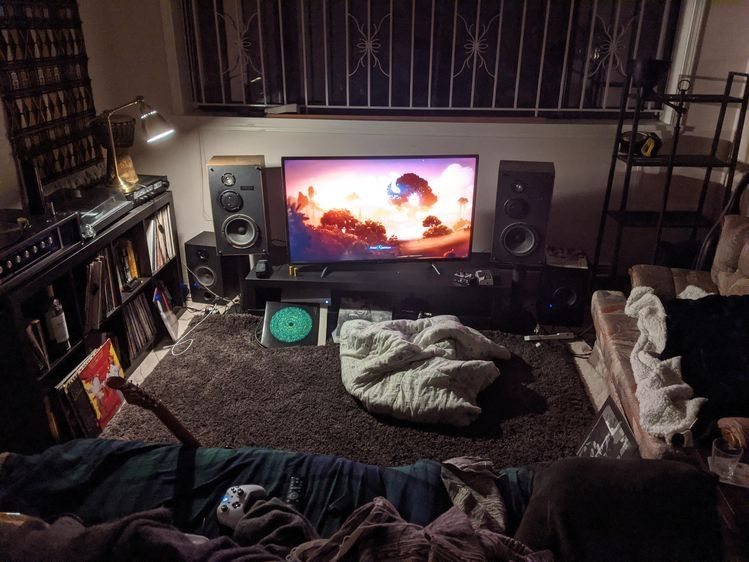not a gesture sign: (254, 124, 579, 309)
